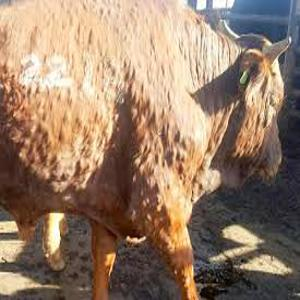lumpy skin diesease: (0, 0, 292, 299)
